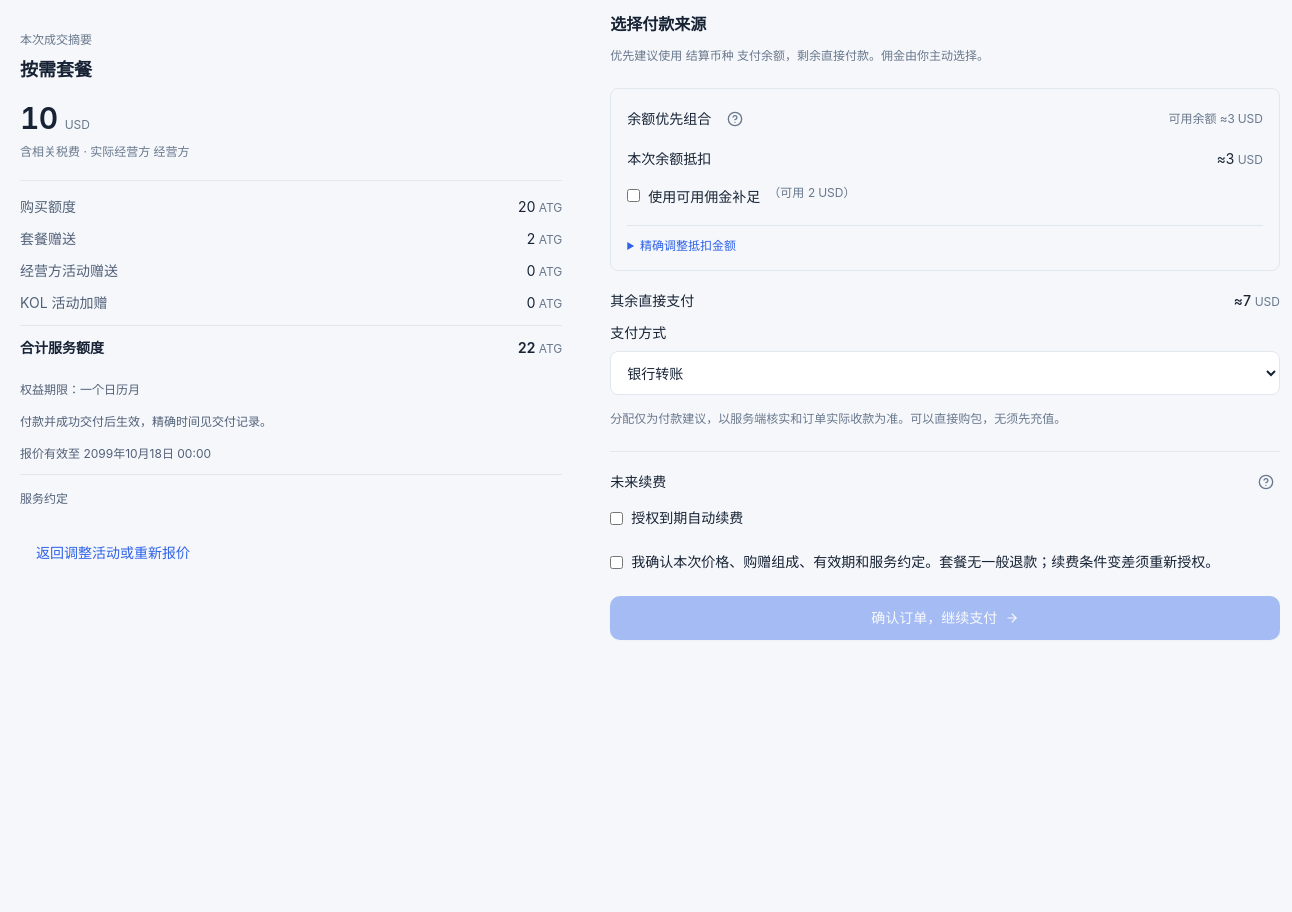
Scenario: starts with a collapsed exact allocation and keeps commission an explicit choice
Expected: the element named "本次使用 结算币种 支付余额" holds "3.000000000000000001", [627,225,1263,254]
Expected: the checkbox labelled "使用可用佣金补足 （可用 2 USD）" is not checked, [627,189,640,202]
Step 1. Click the heading "精确调整抵扣金额" → [688, 246], box [640,238,736,253]
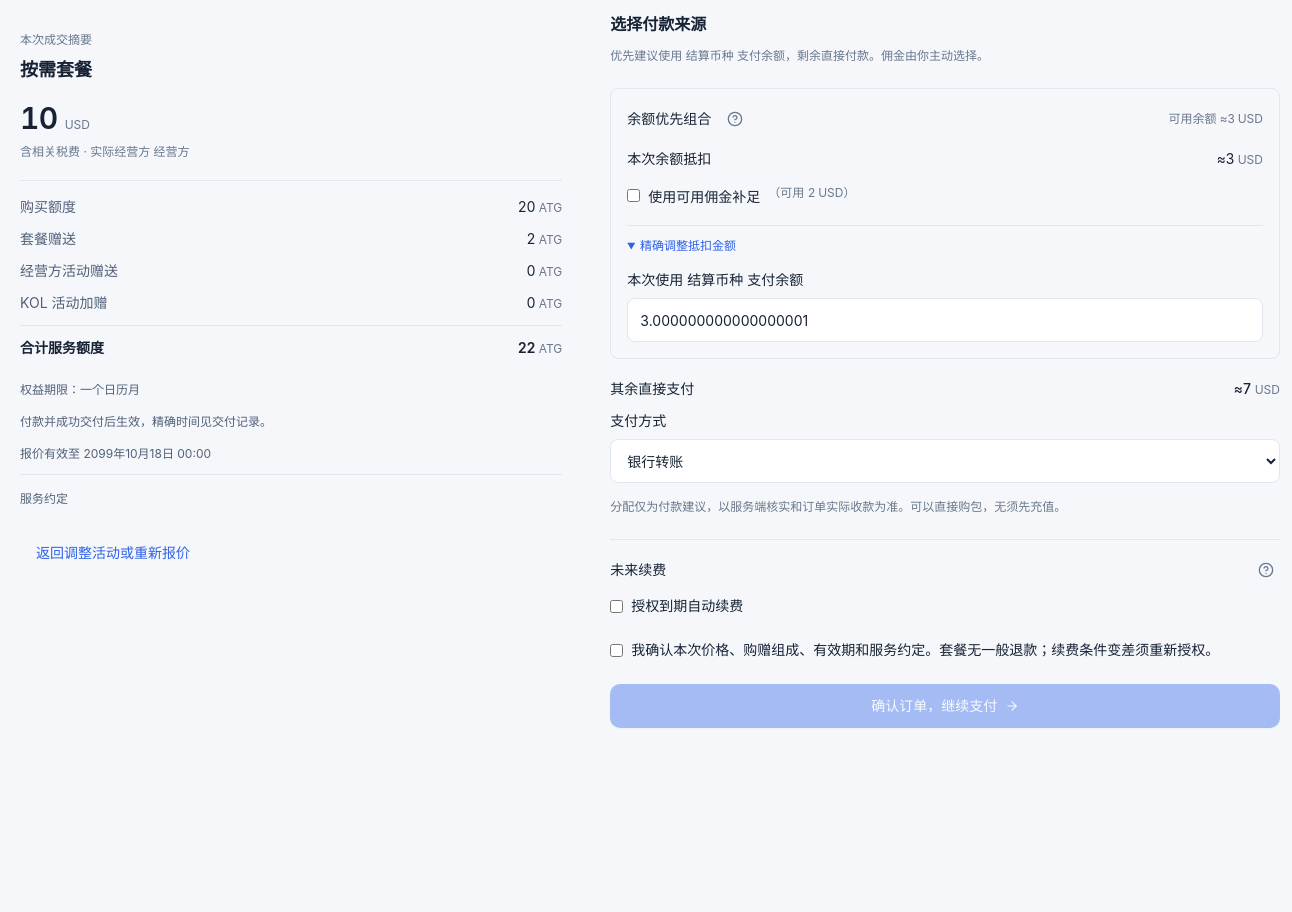
Step 2. Replace the text in the field labelled "本次使用 结算币种 支付余额" with "1.000000000000000001" → [945, 320], box [627,298,1263,342]
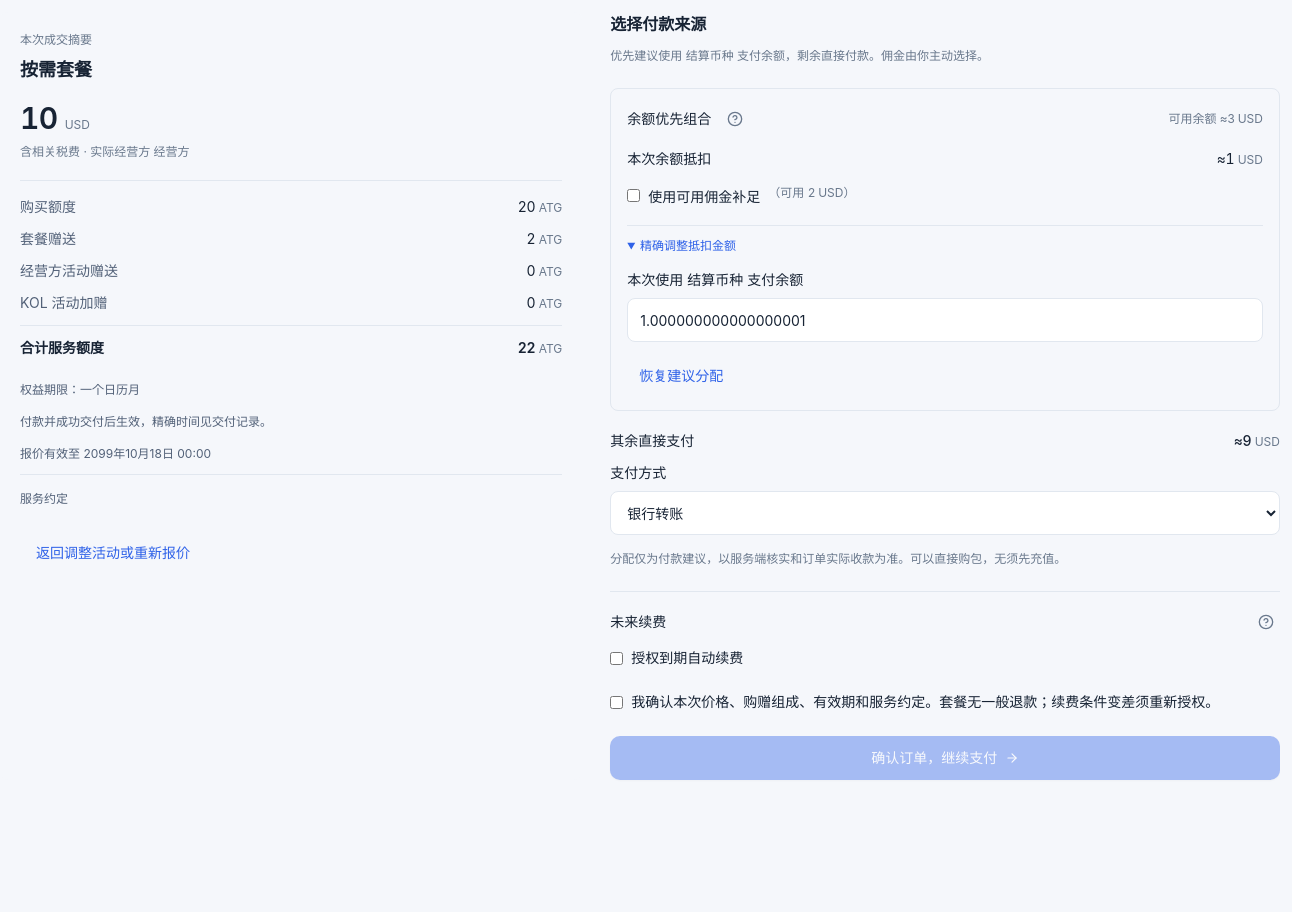
Expected: the element named "8.999999999999999999 USD" is shown, [1234,431,1280,451]
